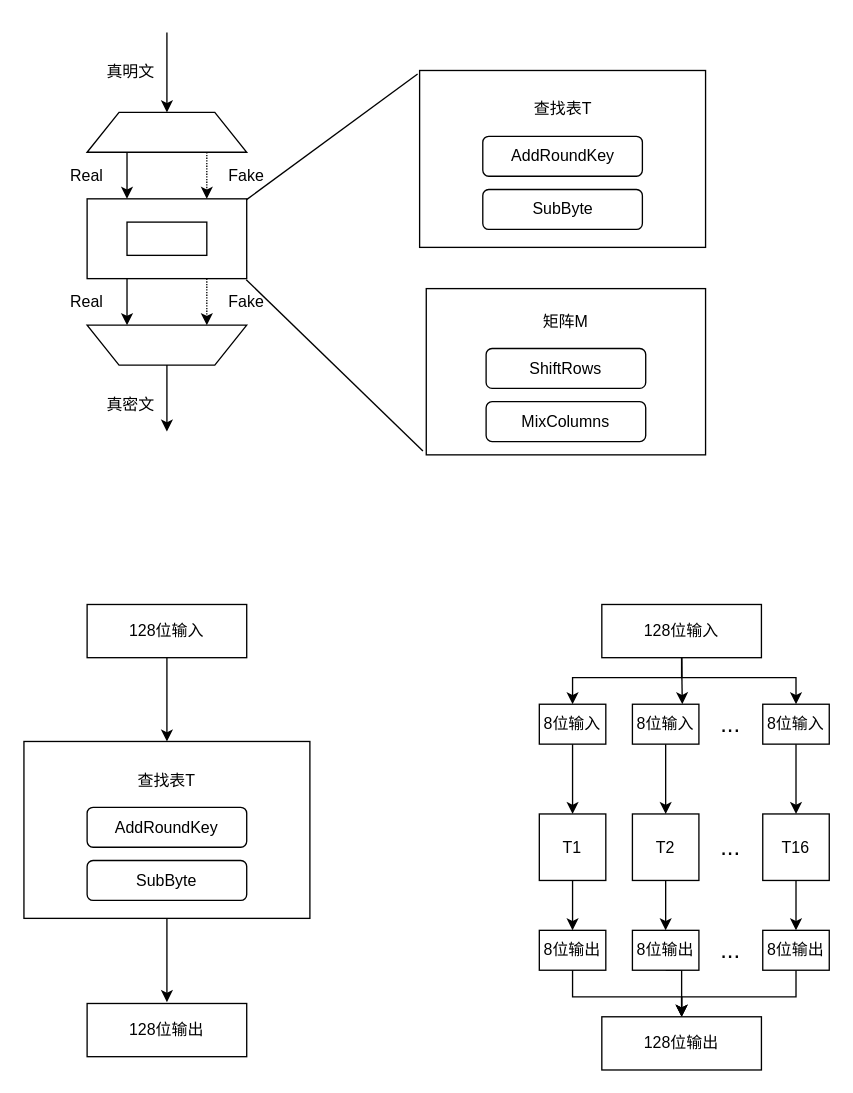
Some shapes in this 853 by 1093 pixel diagram are drawn without their labels. The box of each missing label's shape, as (x1, y1, x2, y2) in pixels:
M0: (86, 111, 247, 152)
MR: (86, 324, 247, 365)
白盒AES: (126, 221, 207, 255)
